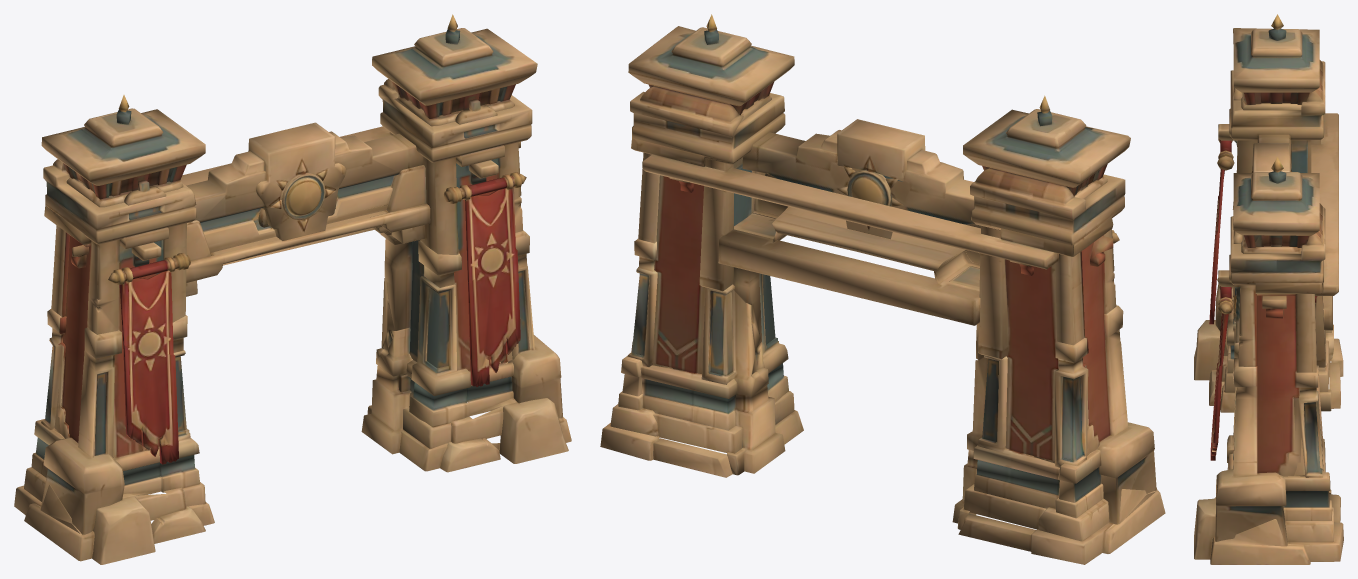
Rendered from SM_Tripo_DesertGateway.glb.
3 renders of one model, left to right at view 1: azimuth 30°, elevation 25°; view 2: azimuth 150°, elevation 25°; view 3: azimuth 270°, elevation 25°, orthographic. The views are drawn at different scales.
Parts seen in each view (by area): view 1: SM_Tripo_DesertGateway_LOD0; view 2: SM_Tripo_DesertGateway_LOD0; view 3: SM_Tripo_DesertGateway_LOD0.
Part boxes in pixels (<box>): SM_Tripo_DesertGateway_LOD0: <box>14,14,571,564</box>; SM_Tripo_DesertGateway_LOD0: <box>600,14,1165,564</box>; SM_Tripo_DesertGateway_LOD0: <box>1194,14,1343,564</box>.
Bounding box in the file's own units: 13.52 × 11 × 4.01.
1 material, 1 textured.
